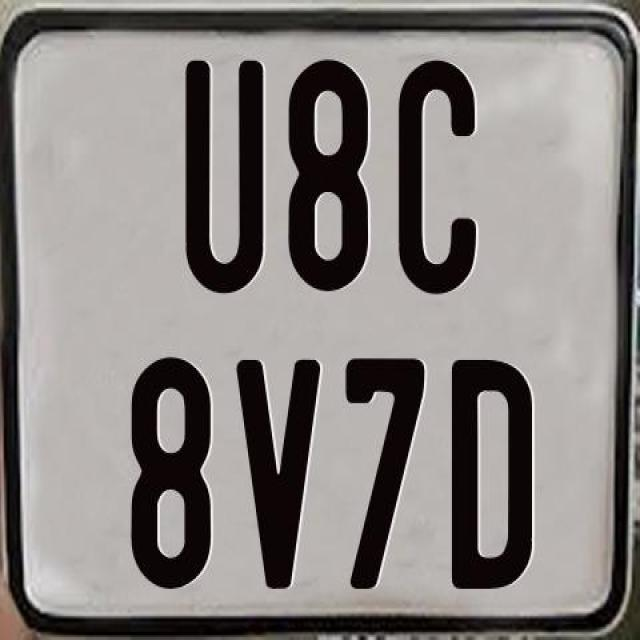7: (342, 355, 424, 592)
8: (286, 55, 374, 292), (126, 356, 208, 598)
C: (398, 56, 476, 290)
D: (450, 357, 532, 587)
U: (186, 60, 266, 302)
V: (236, 360, 324, 598)
